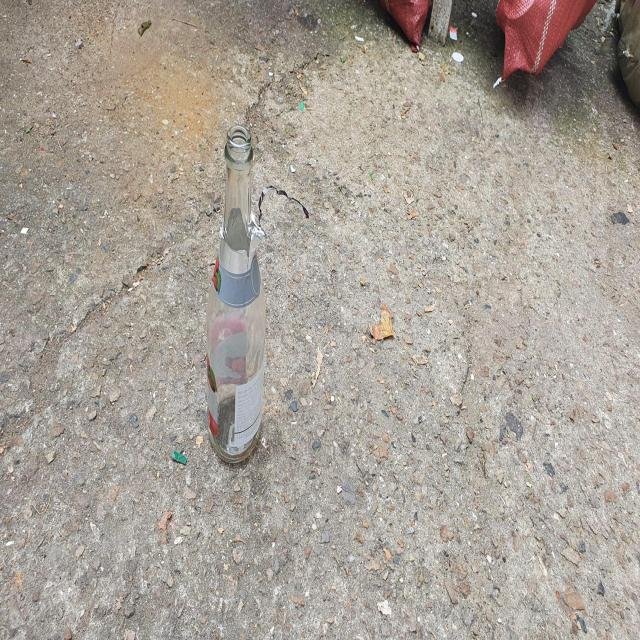glass: (206, 124, 266, 464)
